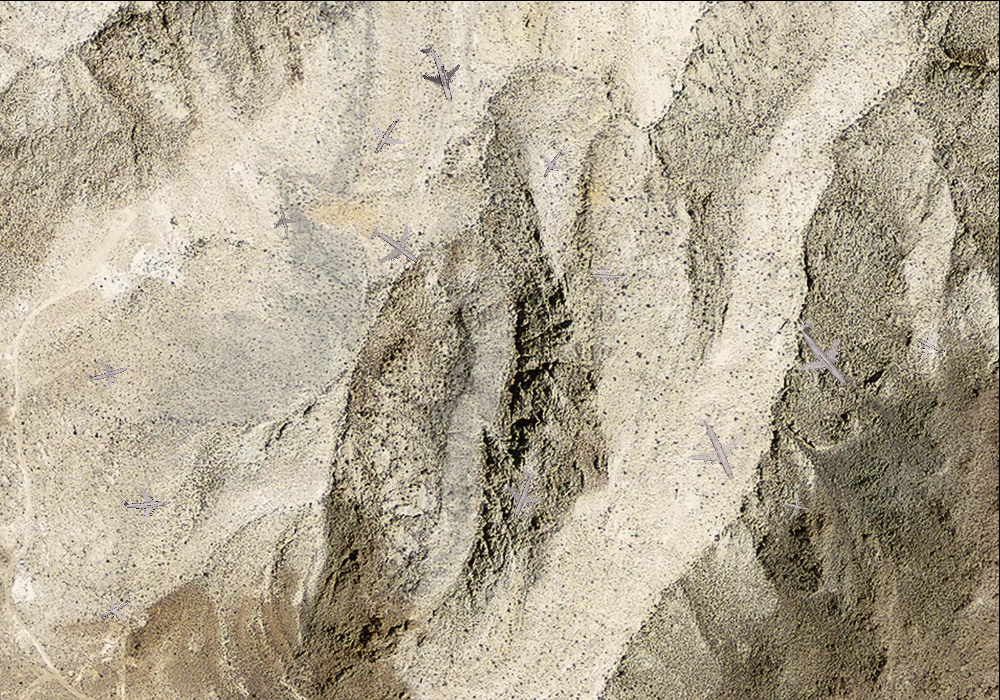plane: (774, 302, 873, 402), (674, 404, 760, 492), (357, 208, 432, 283), (406, 38, 471, 109), (492, 463, 551, 525), (358, 104, 417, 164), (117, 479, 170, 526), (79, 349, 131, 396), (532, 141, 575, 185), (93, 586, 137, 629), (910, 324, 952, 366), (588, 256, 628, 293), (265, 204, 301, 243), (776, 488, 813, 523)
